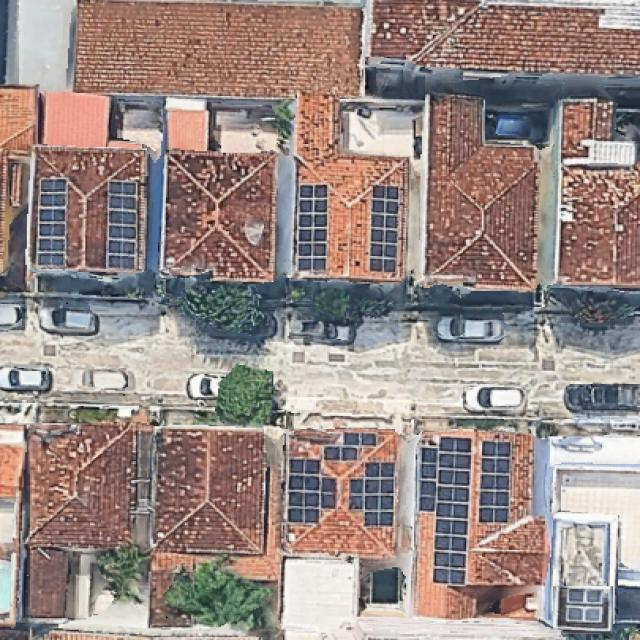painel: (416, 435, 512, 585), (288, 459, 336, 525), (106, 180, 136, 268), (351, 463, 393, 525), (297, 188, 326, 271), (38, 179, 65, 265), (370, 186, 397, 271), (352, 463, 387, 521), (326, 432, 376, 460), (420, 445, 438, 511)
